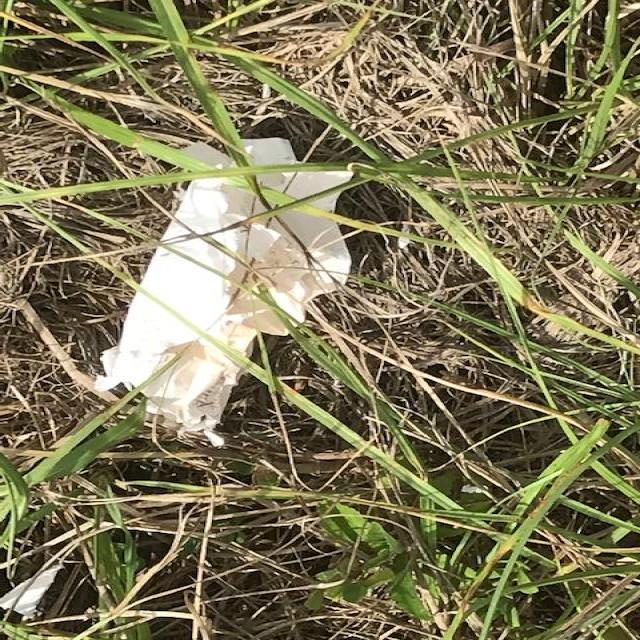litter: (91, 126, 367, 452)
